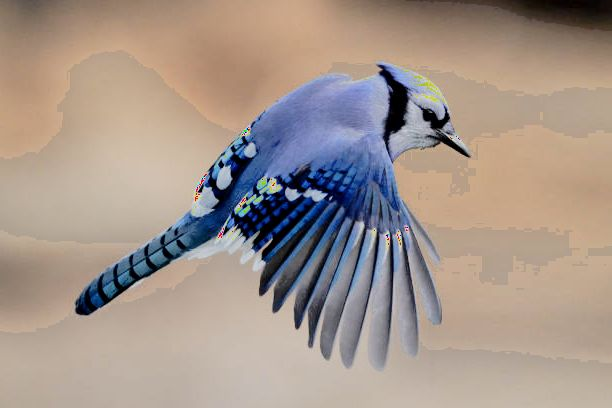Bird: (68, 58, 474, 379)
